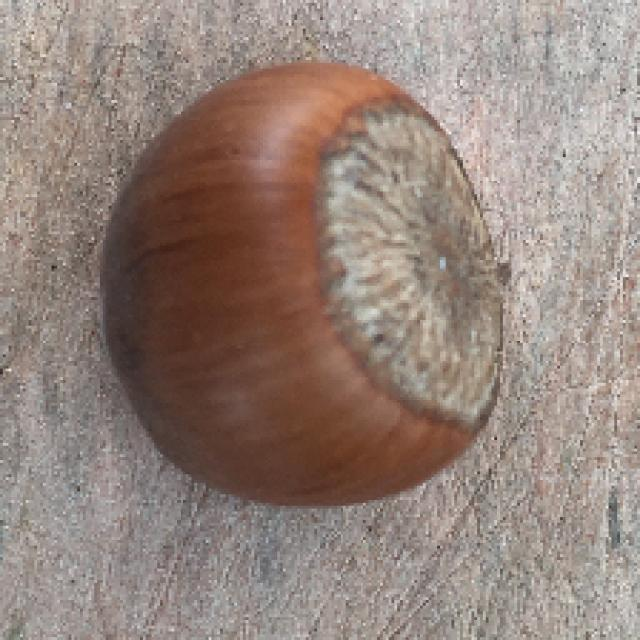qualityHazelnut: (94, 60, 507, 517)
